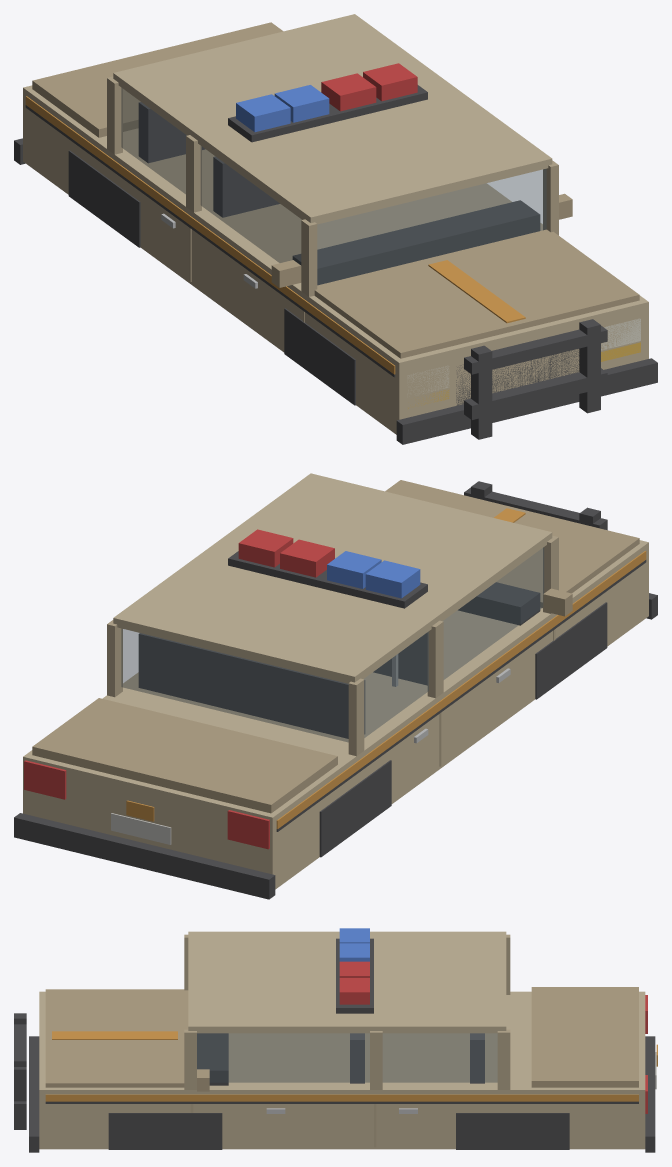
The model's file is highway_patrol_body.glb.
The picture shows the model from 3 angles, top to bottom: view 1: azimuth 30°, elevation 25°; view 2: azimuth 150°, elevation 25°; view 3: azimuth 270°, elevation 25°; orthographic projection. The views are drawn at different scales.
Visible parts, largest first — view 1: verda_highway_patrol; view 2: verda_highway_patrol; view 3: verda_highway_patrol.
Boxes of the visible parts, left/top/right/bottom form: verda_highway_patrol: left=14, top=14, right=657, bottom=444; verda_highway_patrol: left=14, top=473, right=657, bottom=899; verda_highway_patrol: left=14, top=928, right=657, bottom=1152.
Size of the model in its own units: 2.16 by 1.27 by 5.1.
